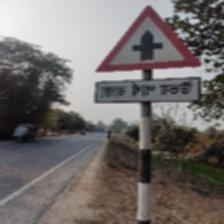Crossroad: (93, 3, 203, 106)
